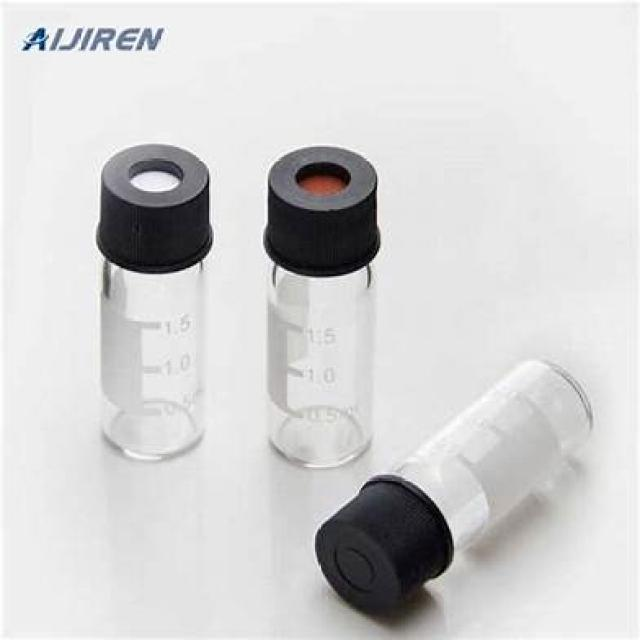vial: (304, 511, 414, 606), (274, 152, 376, 240), (98, 147, 209, 225)
